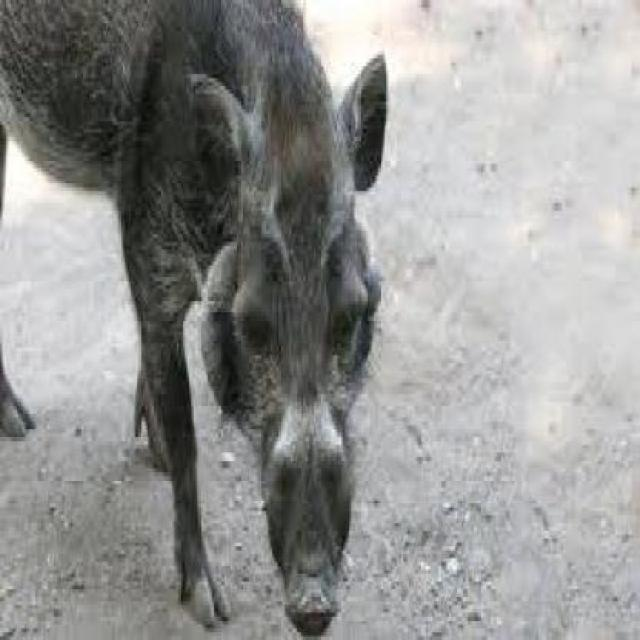wildboar: (0, 0, 395, 640)
